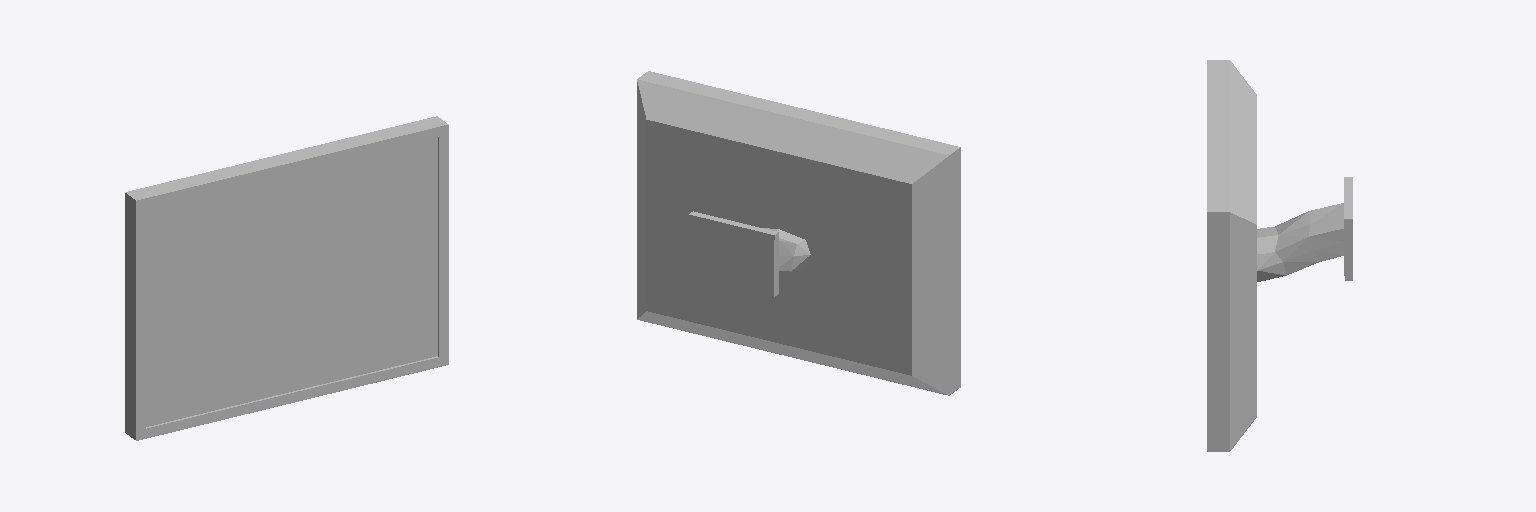
File: TV_low_escalada.fbx.obj
3 views of the same model, side by side, from view 1: azimuth 30°, elevation 25°; view 2: azimuth 150°, elevation 25°; view 3: azimuth 270°, elevation 25° (orthographic).
Visible parts, largest first — view 1: subtool1; view 2: subtool1; view 3: subtool1.
Boxes of the visible parts, x1,y1,x2,y2 form: subtool1: [125, 116, 448, 440]; subtool1: [637, 71, 960, 395]; subtool1: [1207, 60, 1352, 451].
Size of the model in its own units: 162 by 119 by 65.64.